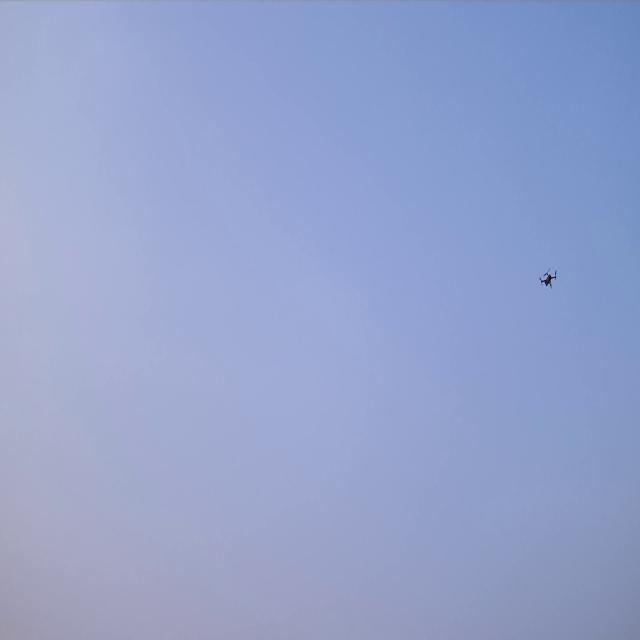UAV: (540, 267, 558, 289)
